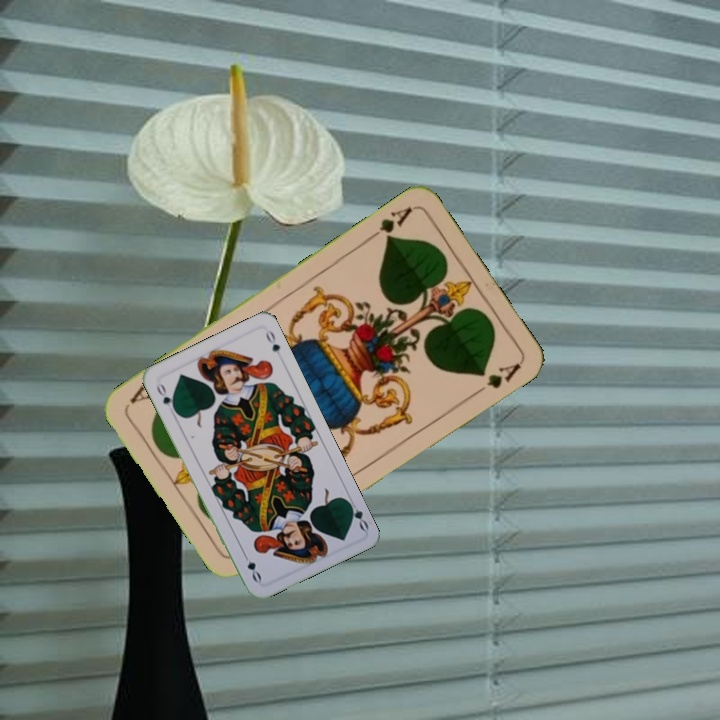GA: (364, 202, 416, 245)
GO: (343, 494, 371, 533), (152, 378, 179, 415)
